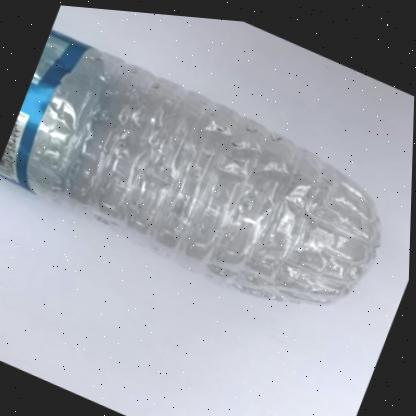Plastic: (0, 28, 380, 297)
